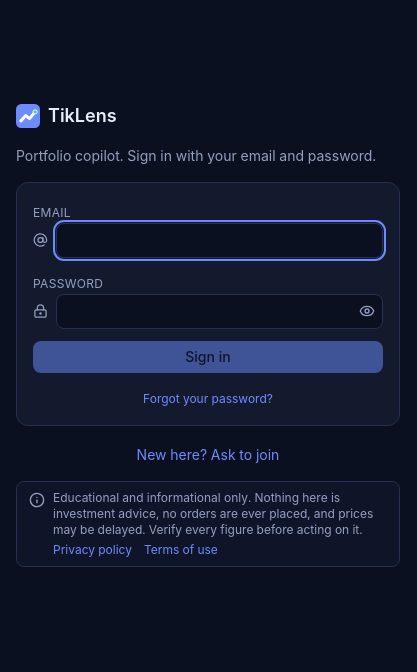
Test case: asking to join (D156, D185, D187) › goes back to signing in
Click the button "New here? Ask to join": [208, 454] box 16,444 -> 400,464
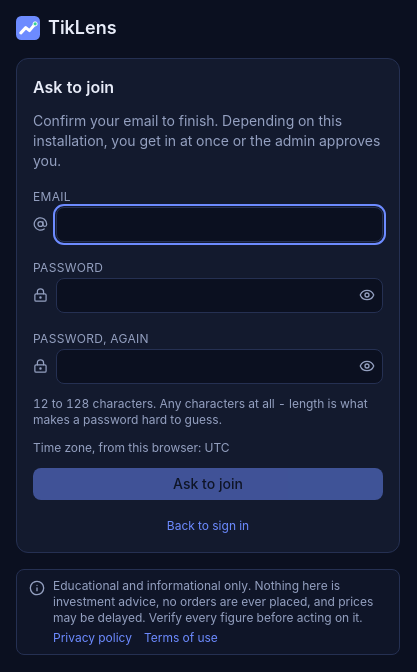
Click the button "Back to sign in": [208, 526] box 33,518 -> 383,534
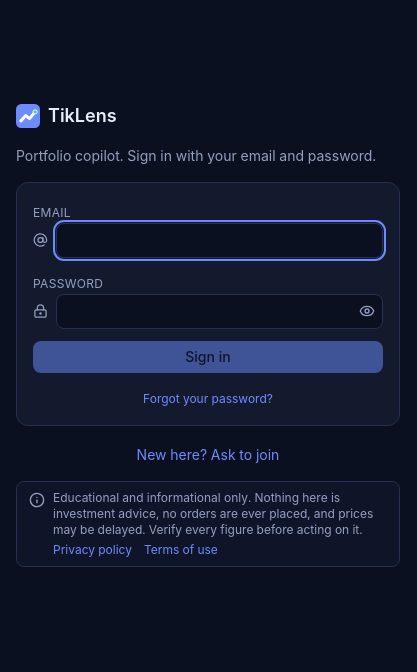
Expected: the button "Sign in" is shown, 33,340 -> 383,372
